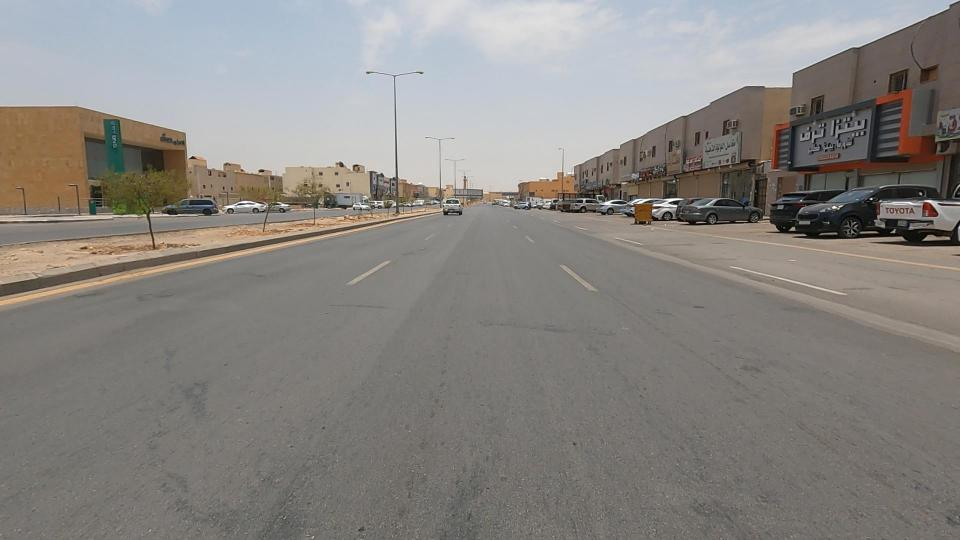CLUTTER_SIDEWALK: (0, 215, 156, 285), (144, 204, 292, 254), (292, 194, 407, 242)
